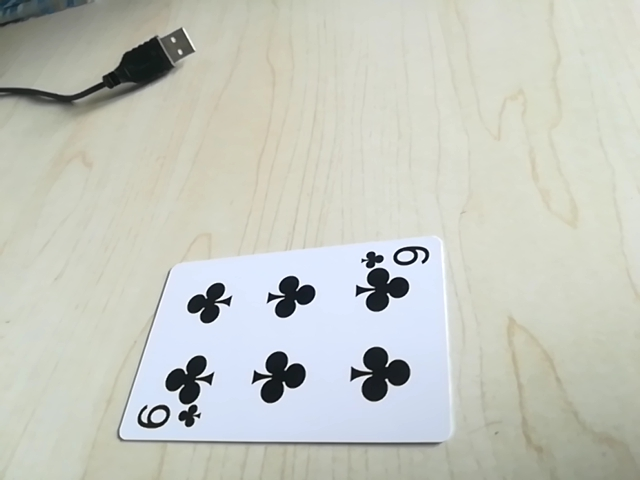mh 6: (128, 401, 199, 436), (359, 242, 432, 271)
